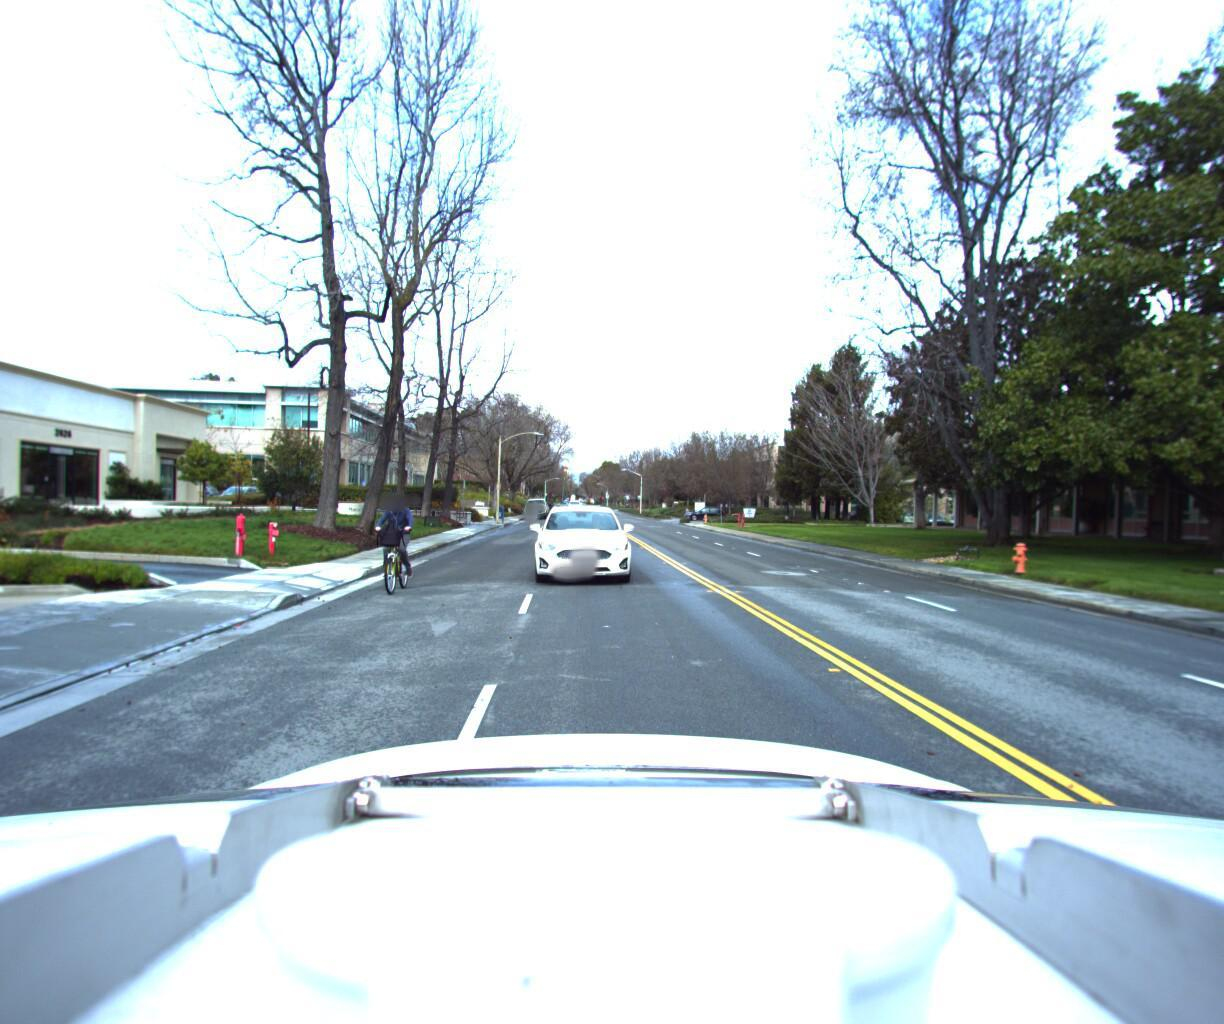bicycle: (360, 490, 427, 600)
car: (527, 503, 642, 591), (518, 496, 553, 519)
